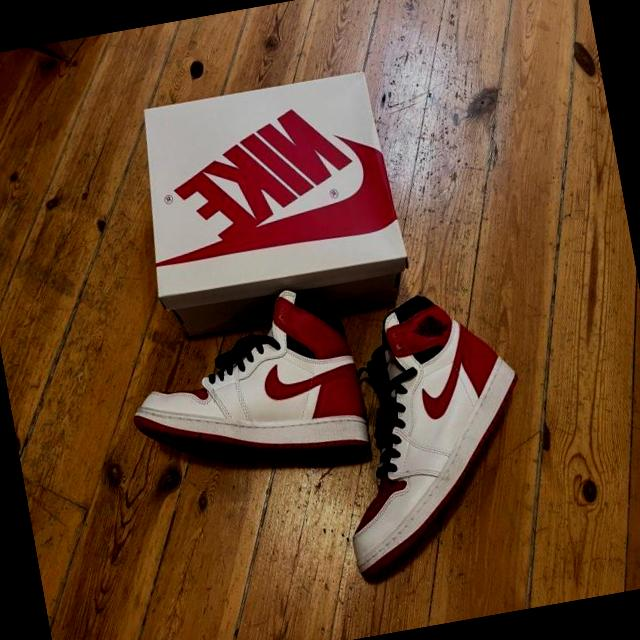nike_original_jordan: (308, 276, 549, 586), (112, 278, 375, 500)
